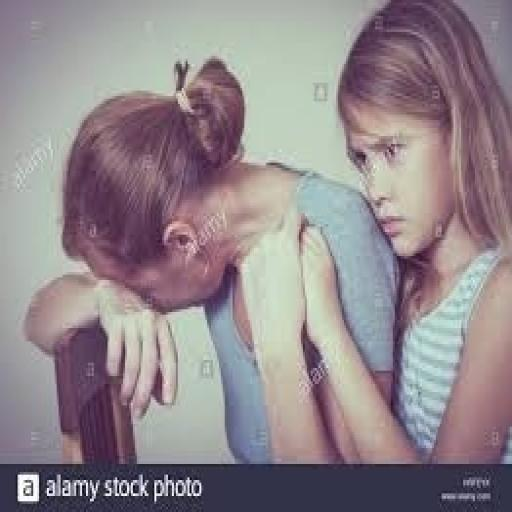hugging: (22, 53, 402, 464), (297, 0, 510, 467)
